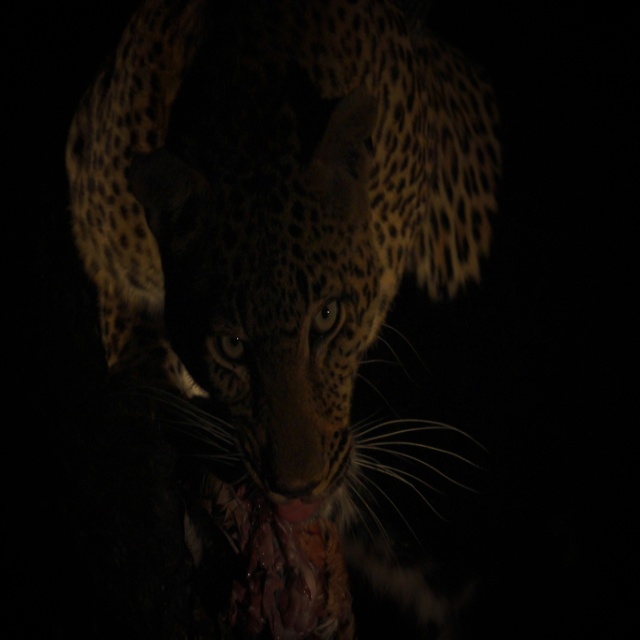Leopard: (65, 1, 497, 639)
